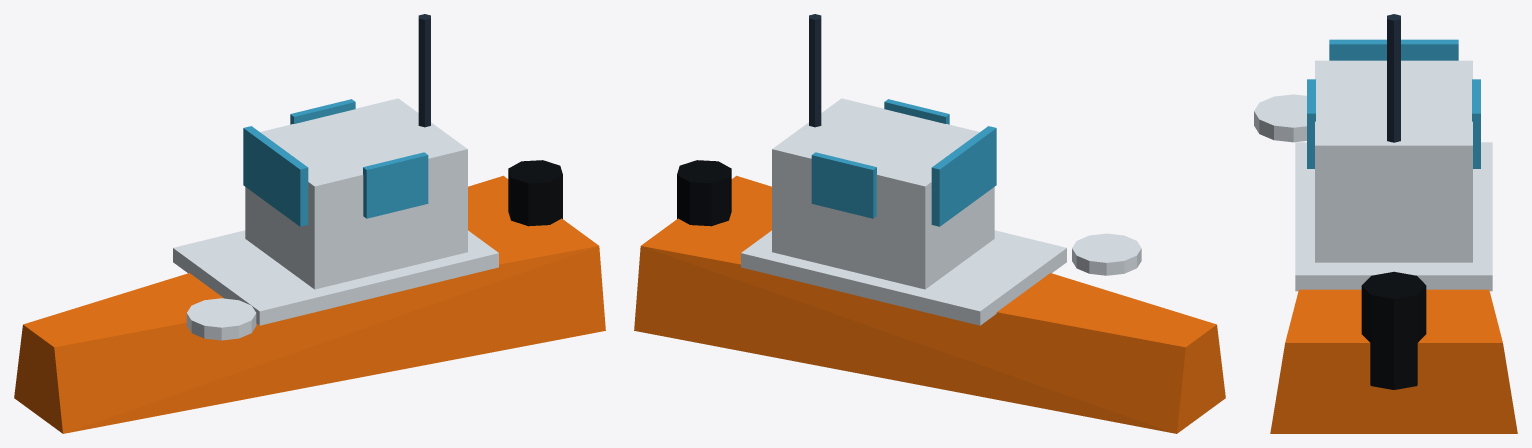
The model's file is rescue-boat.obj.
The picture shows the model from 3 angles, left to right: view 1: azimuth 30°, elevation 25°; view 2: azimuth 150°, elevation 25°; view 3: azimuth 270°, elevation 25°; orthographic projection. The views are drawn at different scales.
Visible parts, largest first — view 1: Hull, Cabin, Deck, Windshield, Cabin side window, Outboard motor, Life ring, Radar mast; view 2: Hull, Cabin, Deck, Windshield, Cabin side window, Outboard motor, Life ring, Radar mast; view 3: Cabin, Hull, Deck, Outboard motor, Windshield, Life ring, Radar mast, Cabin side window.
Boxes of the visible parts, x1=… form: Hull: x1=14, y1=175, x2=605, y2=433; Cabin: x1=245, y1=98, x2=467, y2=289; Deck: x1=173, y1=230, x2=498, y2=325; Windshield: x1=243, y1=126, x2=308, y2=226; Cabin side window: x1=290, y1=99, x2=428, y2=218; Outboard motor: x1=508, y1=160, x2=562, y2=226; Life ring: x1=186, y1=298, x2=256, y2=340; Radar mast: x1=418, y1=14, x2=430, y2=127; Hull: x1=634, y1=175, x2=1225, y2=433; Cabin: x1=772, y1=98, x2=994, y2=289; Deck: x1=741, y1=230, x2=1066, y2=325; Windshield: x1=931, y1=126, x2=996, y2=226; Cabin side window: x1=811, y1=99, x2=949, y2=218; Outboard motor: x1=677, y1=160, x2=731, y2=226; Life ring: x1=1072, y1=233, x2=1141, y2=275; Radar mast: x1=809, y1=14, x2=821, y2=127; Cabin: x1=1315, y1=60, x2=1472, y2=262; Hull: x1=1270, y1=289, x2=1517, y2=433; Deck: x1=1295, y1=142, x2=1492, y2=291; Outboard motor: x1=1361, y1=271, x2=1426, y2=389; Windshield: x1=1329, y1=39, x2=1458, y2=60; Life ring: x1=1254, y1=94, x2=1306, y2=142; Radar mast: x1=1387, y1=14, x2=1400, y2=142; Cabin side window: x1=1307, y1=79, x2=1480, y2=168.
Size of the model in its own units: 3.82 by 2.13 by 1.47.
